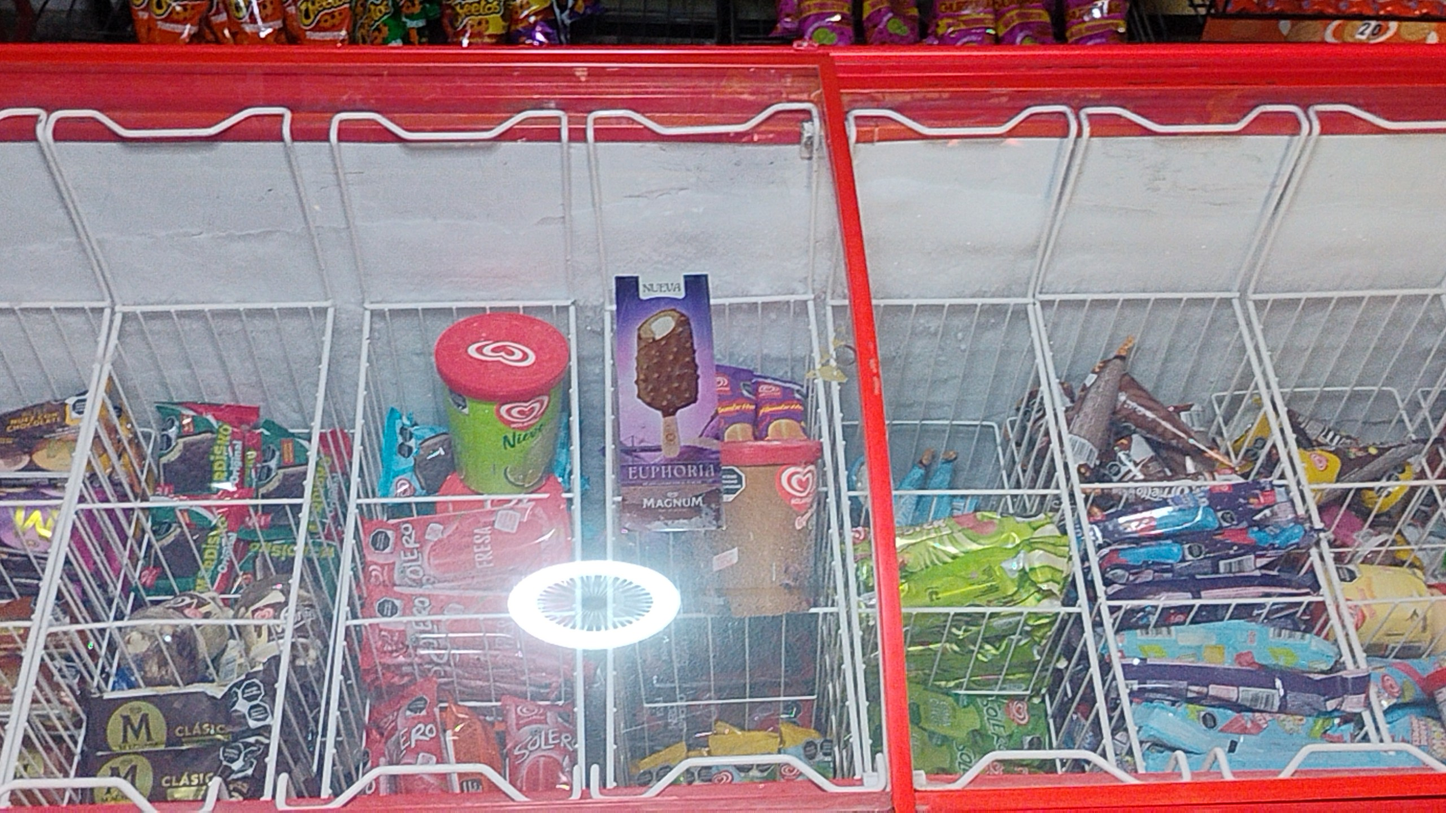rejilla: (1, 309, 110, 777), (1037, 304, 1144, 772), (6, 368, 108, 782), (1030, 305, 1113, 755), (266, 308, 334, 798), (322, 312, 369, 797), (820, 383, 861, 775), (1248, 301, 1318, 523), (1234, 301, 1302, 513), (835, 385, 869, 771), (1322, 542, 1363, 664), (1313, 549, 1352, 668), (571, 307, 580, 560), (49, 620, 286, 629), (78, 500, 303, 507), (367, 301, 570, 308), (1251, 290, 1444, 297), (357, 495, 546, 502), (346, 613, 508, 621), (1108, 598, 1324, 604), (118, 303, 330, 309), (606, 312, 611, 559), (106, 313, 121, 370), (1038, 295, 1237, 299), (711, 296, 811, 303), (1329, 544, 1445, 550), (1347, 597, 1446, 604), (1308, 481, 1445, 486), (579, 652, 584, 786), (1081, 482, 1226, 486), (904, 608, 1082, 611), (810, 302, 819, 360), (874, 300, 1032, 303), (608, 652, 611, 785), (896, 491, 1060, 493), (0, 303, 89, 306), (828, 309, 832, 351), (609, 584, 612, 625), (1, 502, 62, 504), (577, 588, 580, 625), (1, 623, 33, 626), (88, 303, 108, 306), (812, 609, 839, 611), (859, 609, 875, 612), (849, 492, 865, 494), (1275, 481, 1289, 483), (613, 497, 620, 500), (564, 494, 573, 496)
